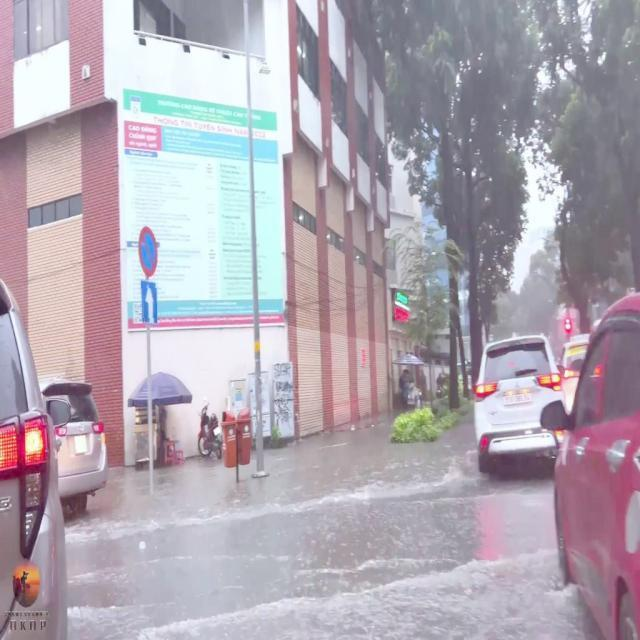131a-cam-do-xe: (137, 225, 159, 277)
407a-duong-mot-chieu: (142, 280, 158, 325)
